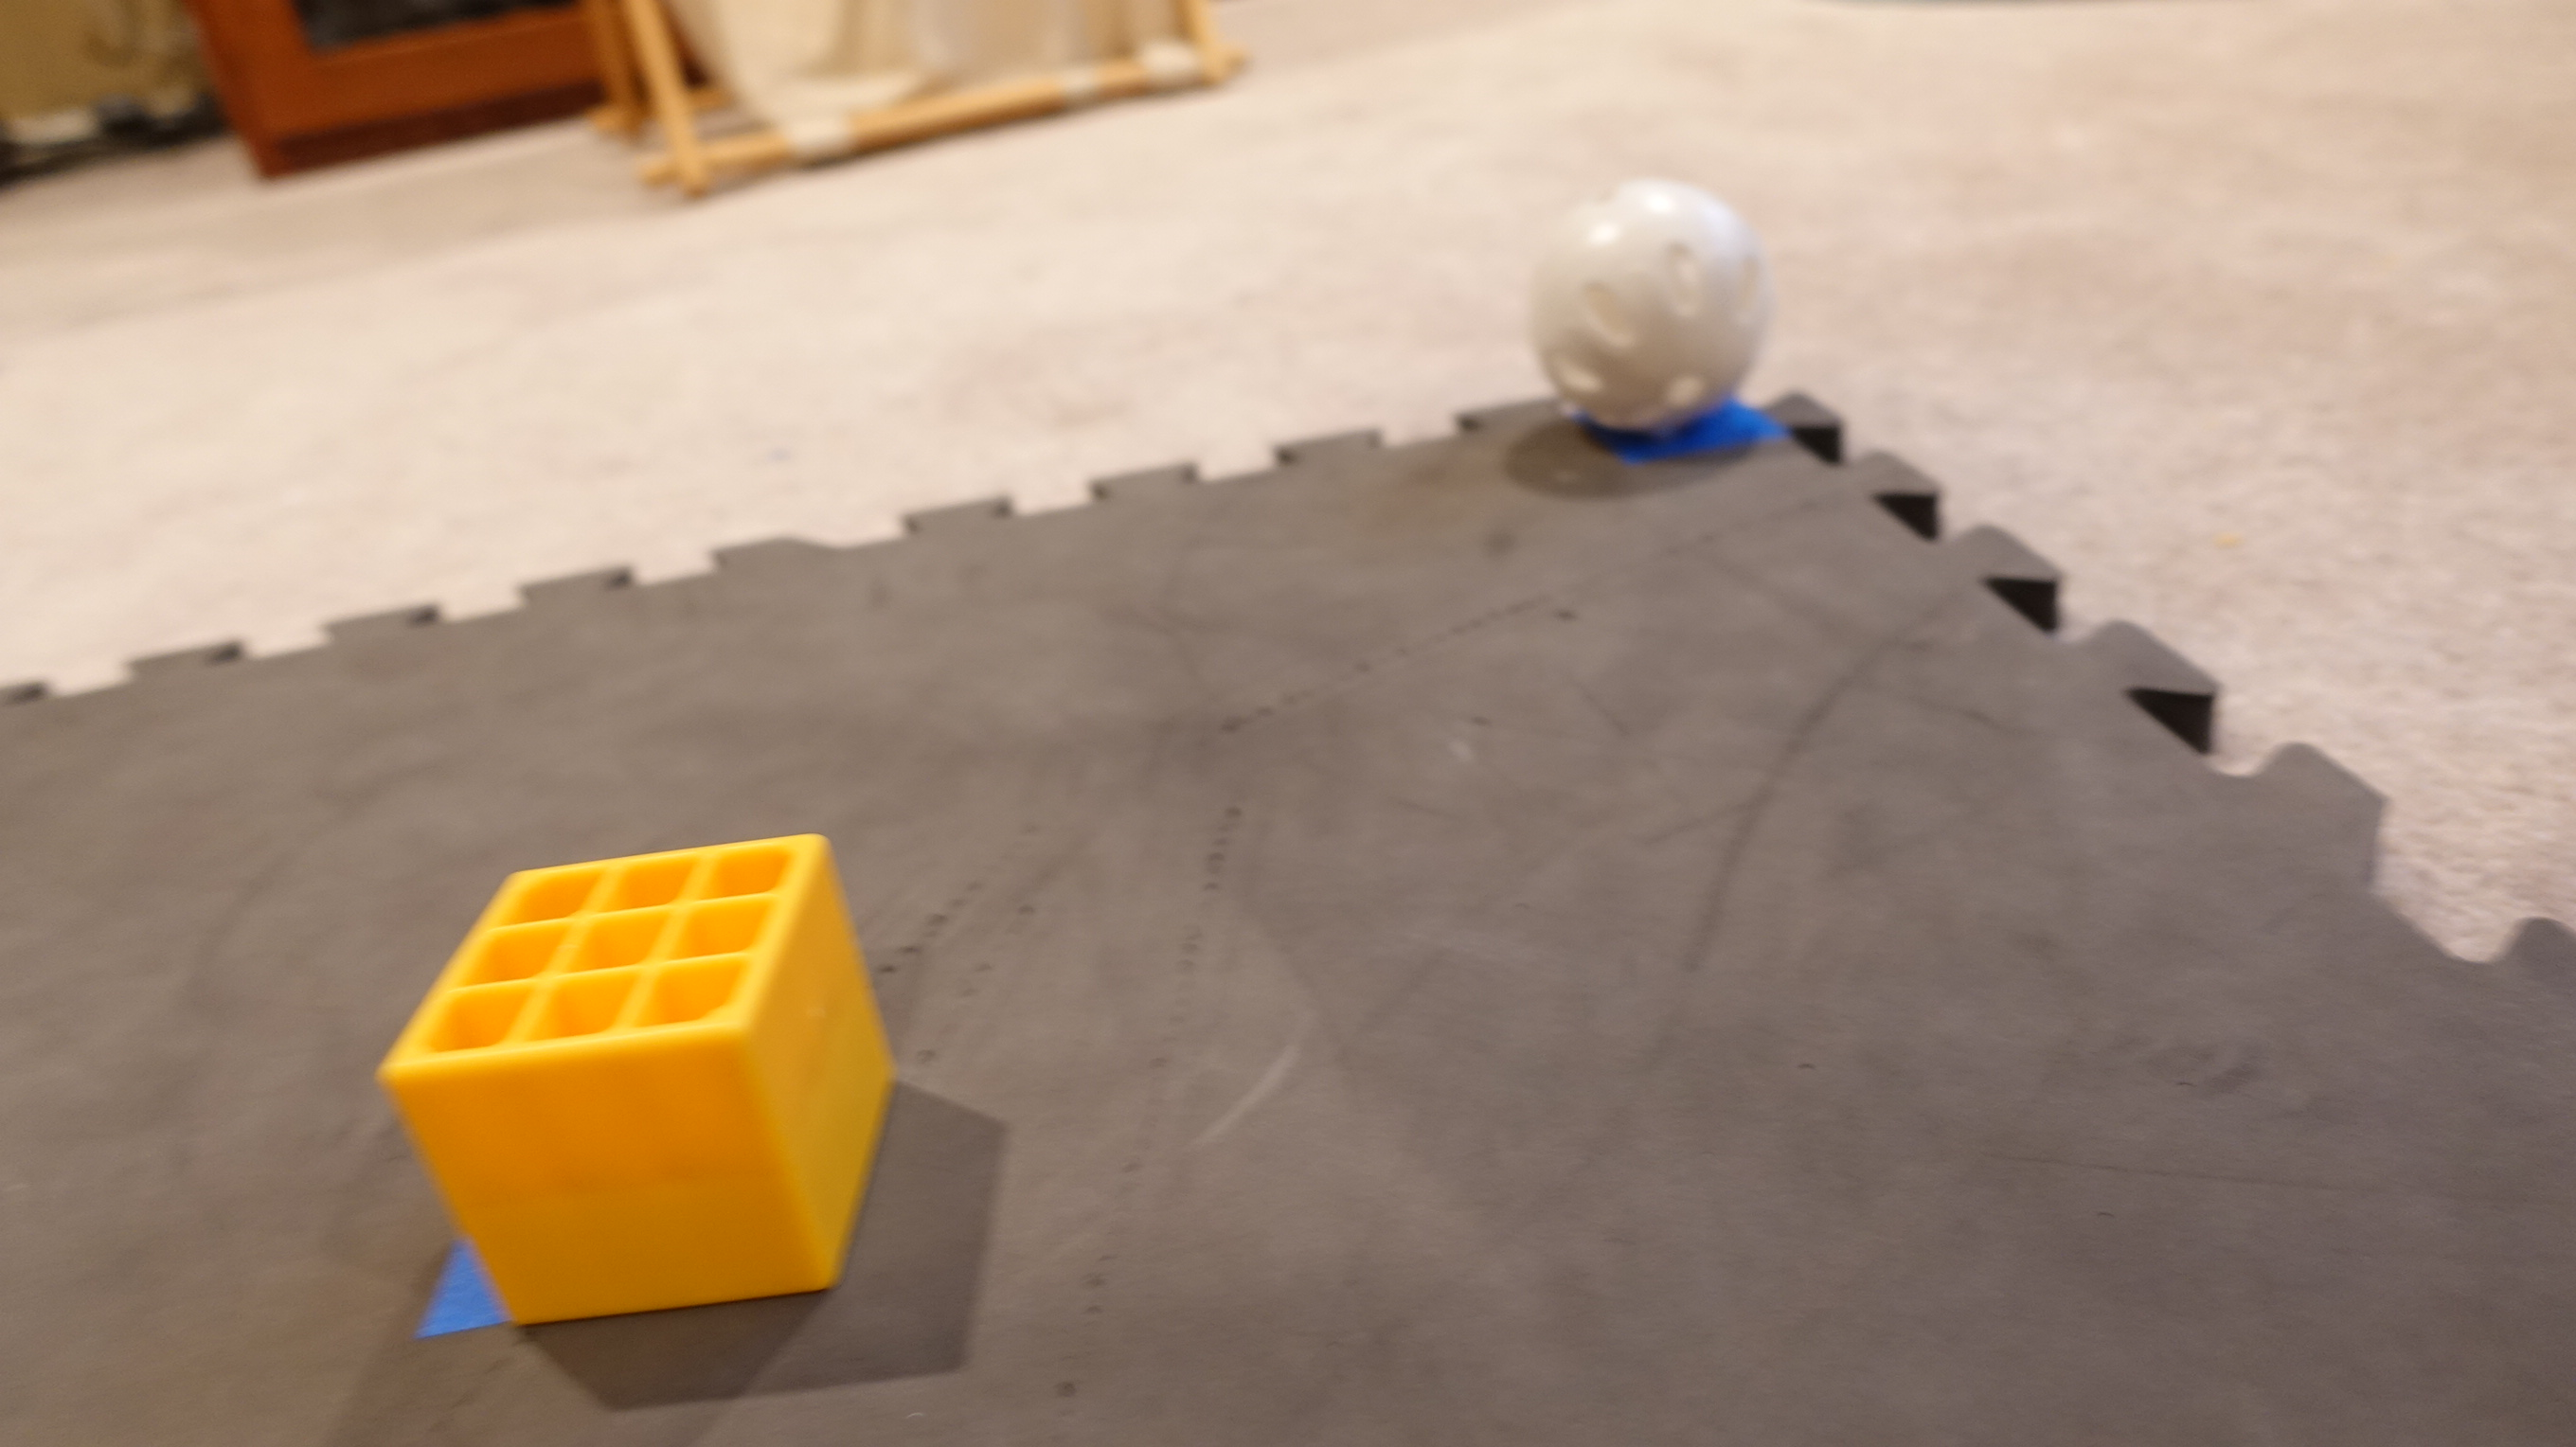gold: (377, 823, 915, 1323)
silver: (1525, 179, 1773, 439)
